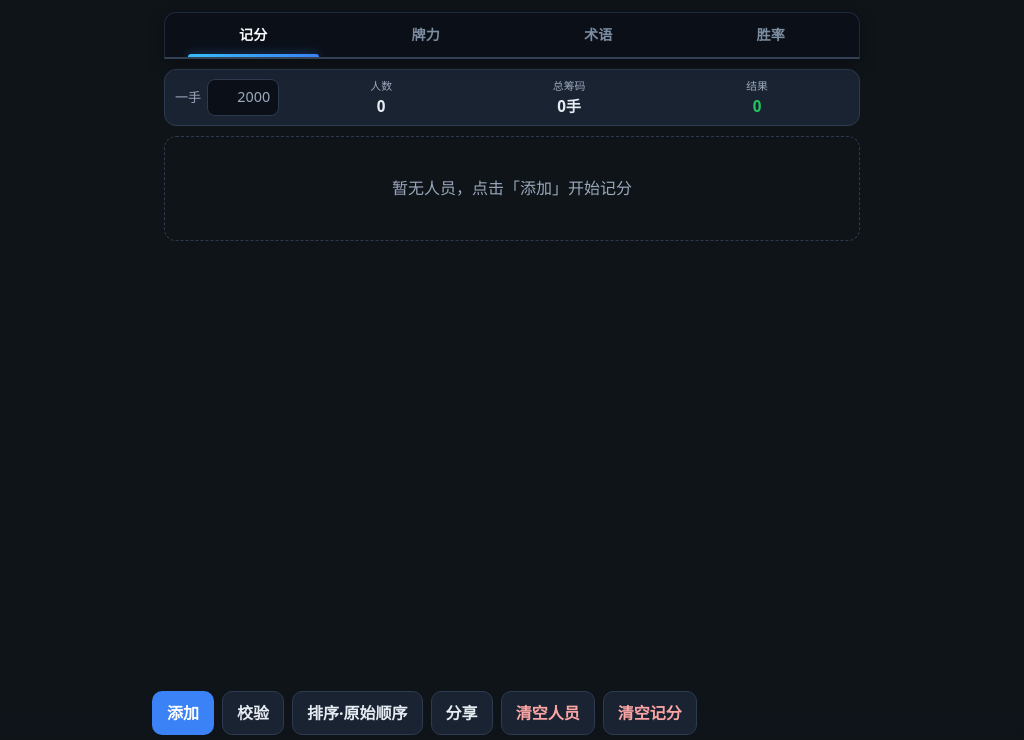
Test case: App integration › opens preflop heatmap tab with AA default detail
The width and height of the screenshot is (1024, 740).
Click the tab "胜率": (771, 35) [684,13,857,57]
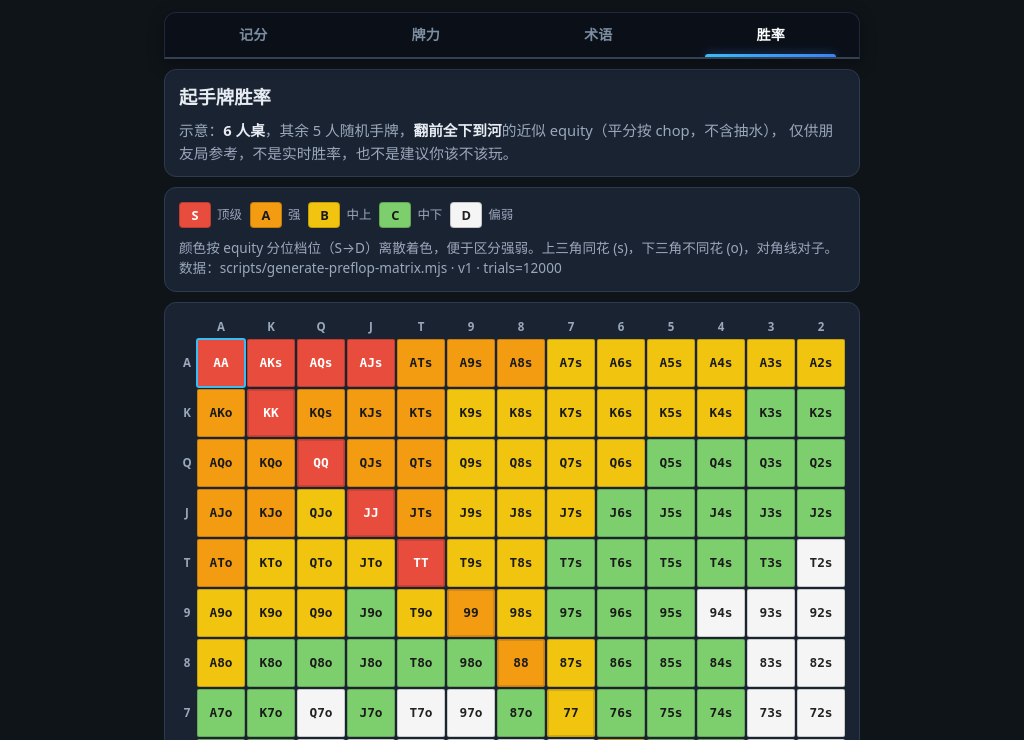
Result: the heading "起手牌胜率" is shown at [179,84,271,109]
Result: the text "6 人桌" is shown at [223,120,265,140]
Result: the cell named "AA，对子" is shown at [197,339,245,387]
